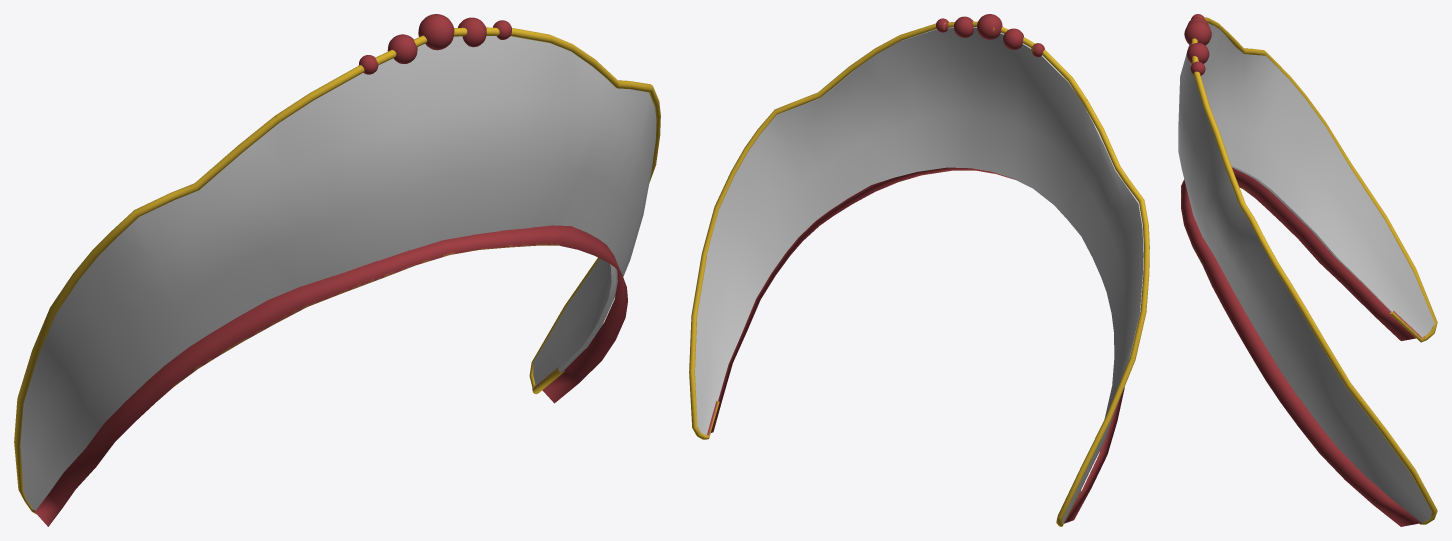
File: khokhloma_hat.gltf
3 views of the same model, side by side, from view 1: azimuth 30°, elevation 25°; view 2: azimuth 150°, elevation 25°; view 3: azimuth 270°, elevation 25° (orthographic). The views are drawn at different scales.
Visible parts, largest first — view 1: main, details; view 2: main, details; view 3: main, details.
Part boxes in pixels (x1,y1,x2,y2): main: [20, 36, 656, 510]; details: [14, 14, 660, 526]; main: [695, 27, 1143, 522]; details: [689, 14, 1149, 526]; main: [1178, 23, 1435, 522]; details: [1181, 14, 1437, 526].
Size of the model in its own units: 16.41 by 14.13 by 8.06.
